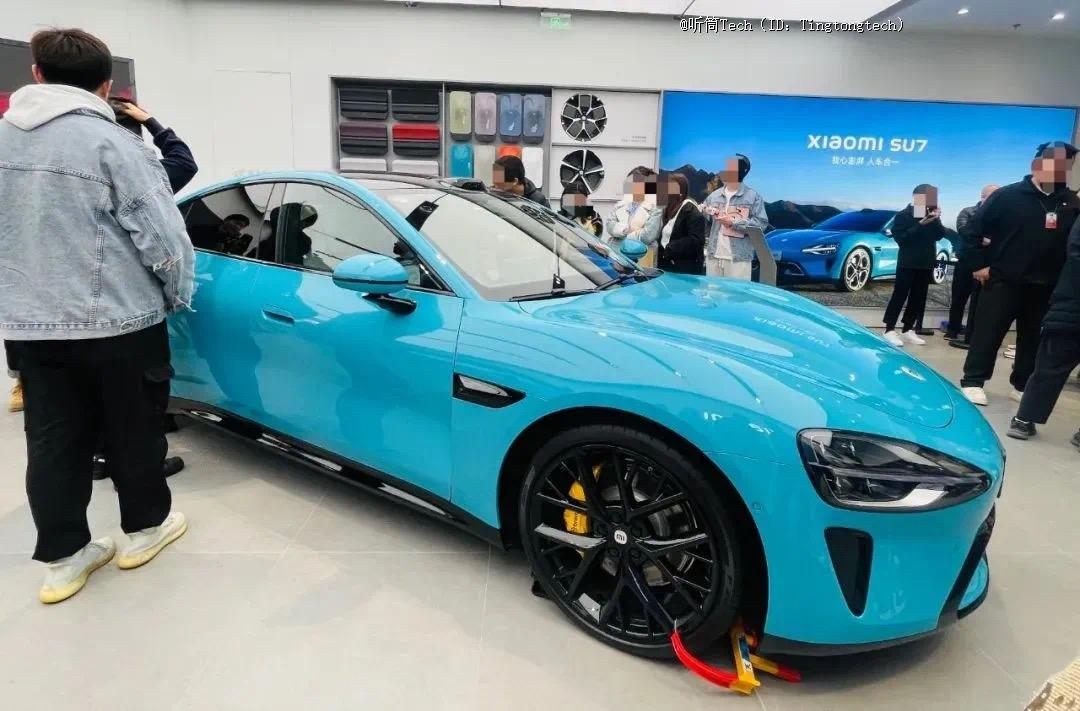su7: (163, 186, 1001, 670), (766, 195, 914, 280)
